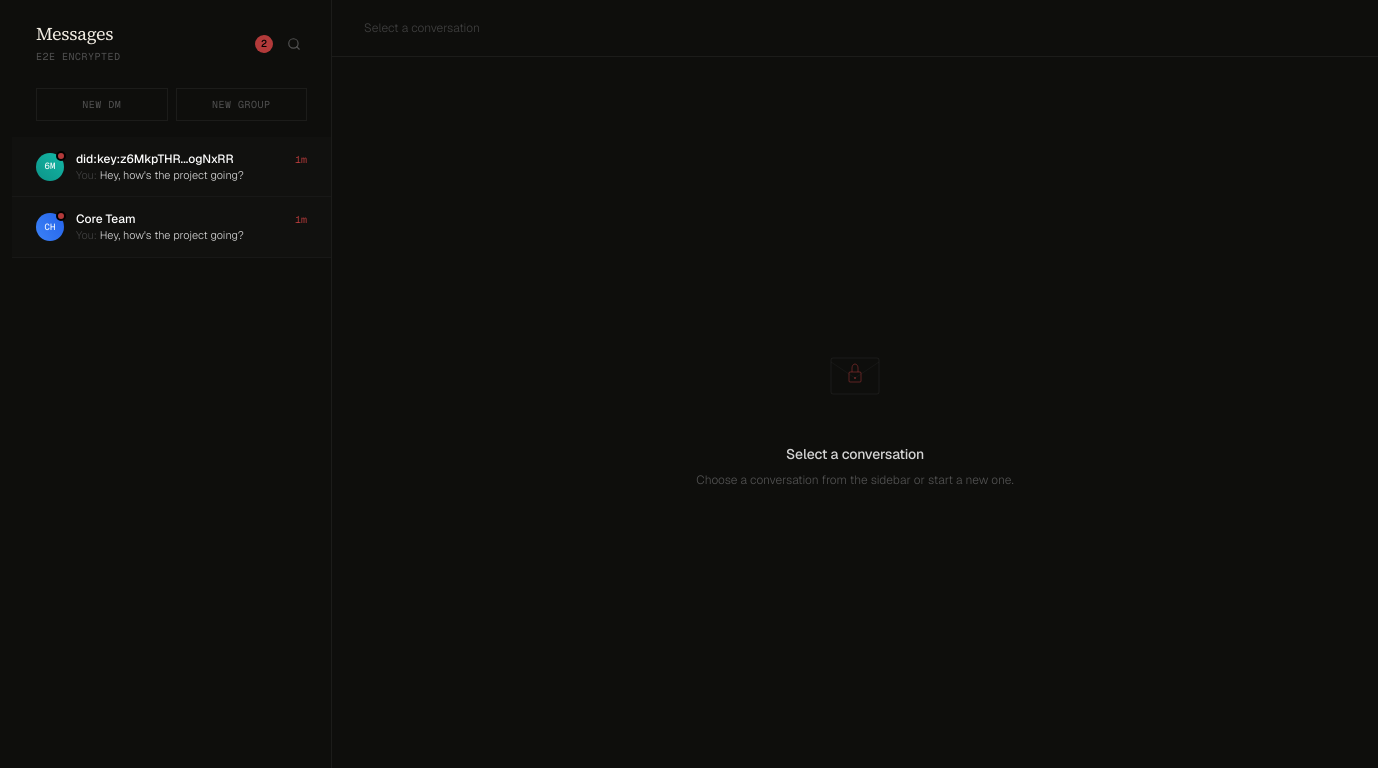
Messages page › Create channel › opens group creation form on New Group click
Expected: the heading "Messages" is shown, [36,24,120,45]
Click the button "New Group" at [241, 104], box [176,88,307,121]
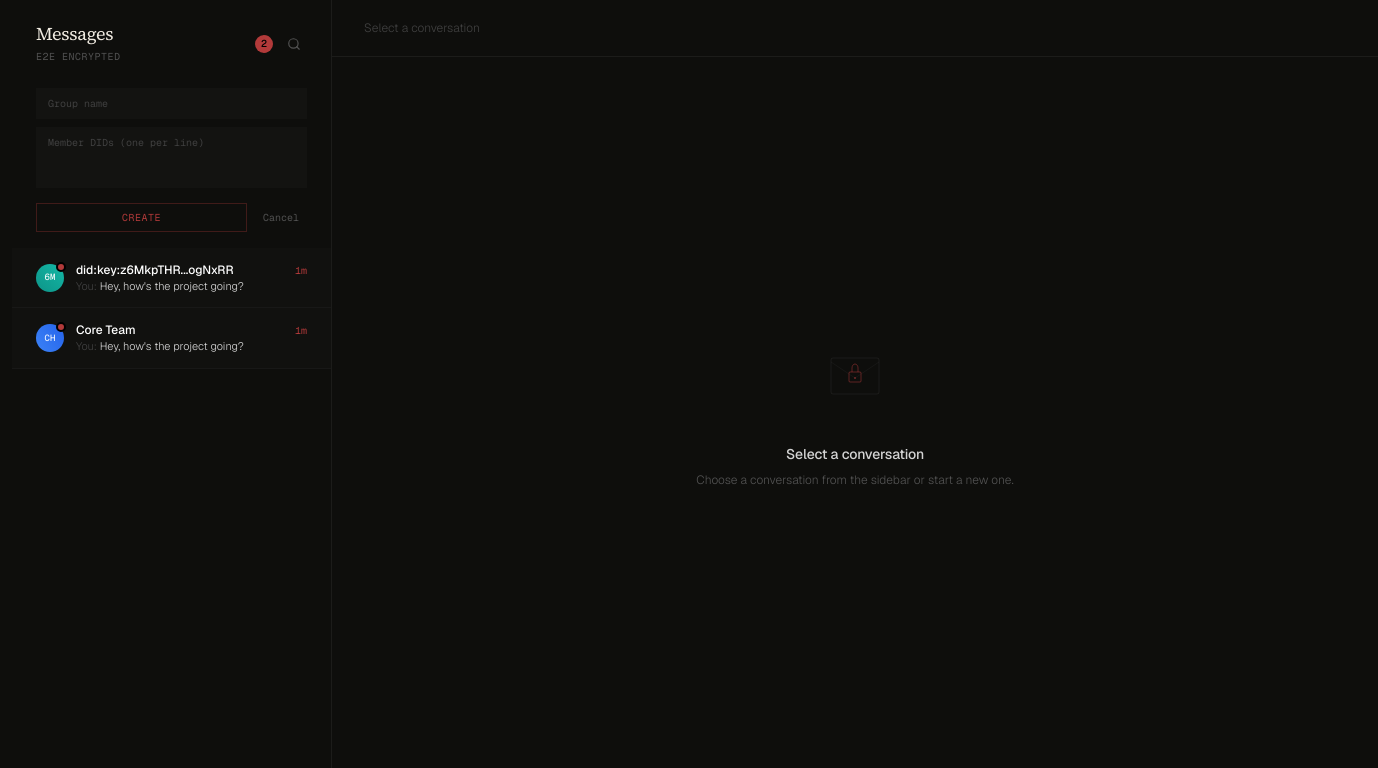
Expected: the field with placeholder "Group name" is shown, [36,88,307,119]
